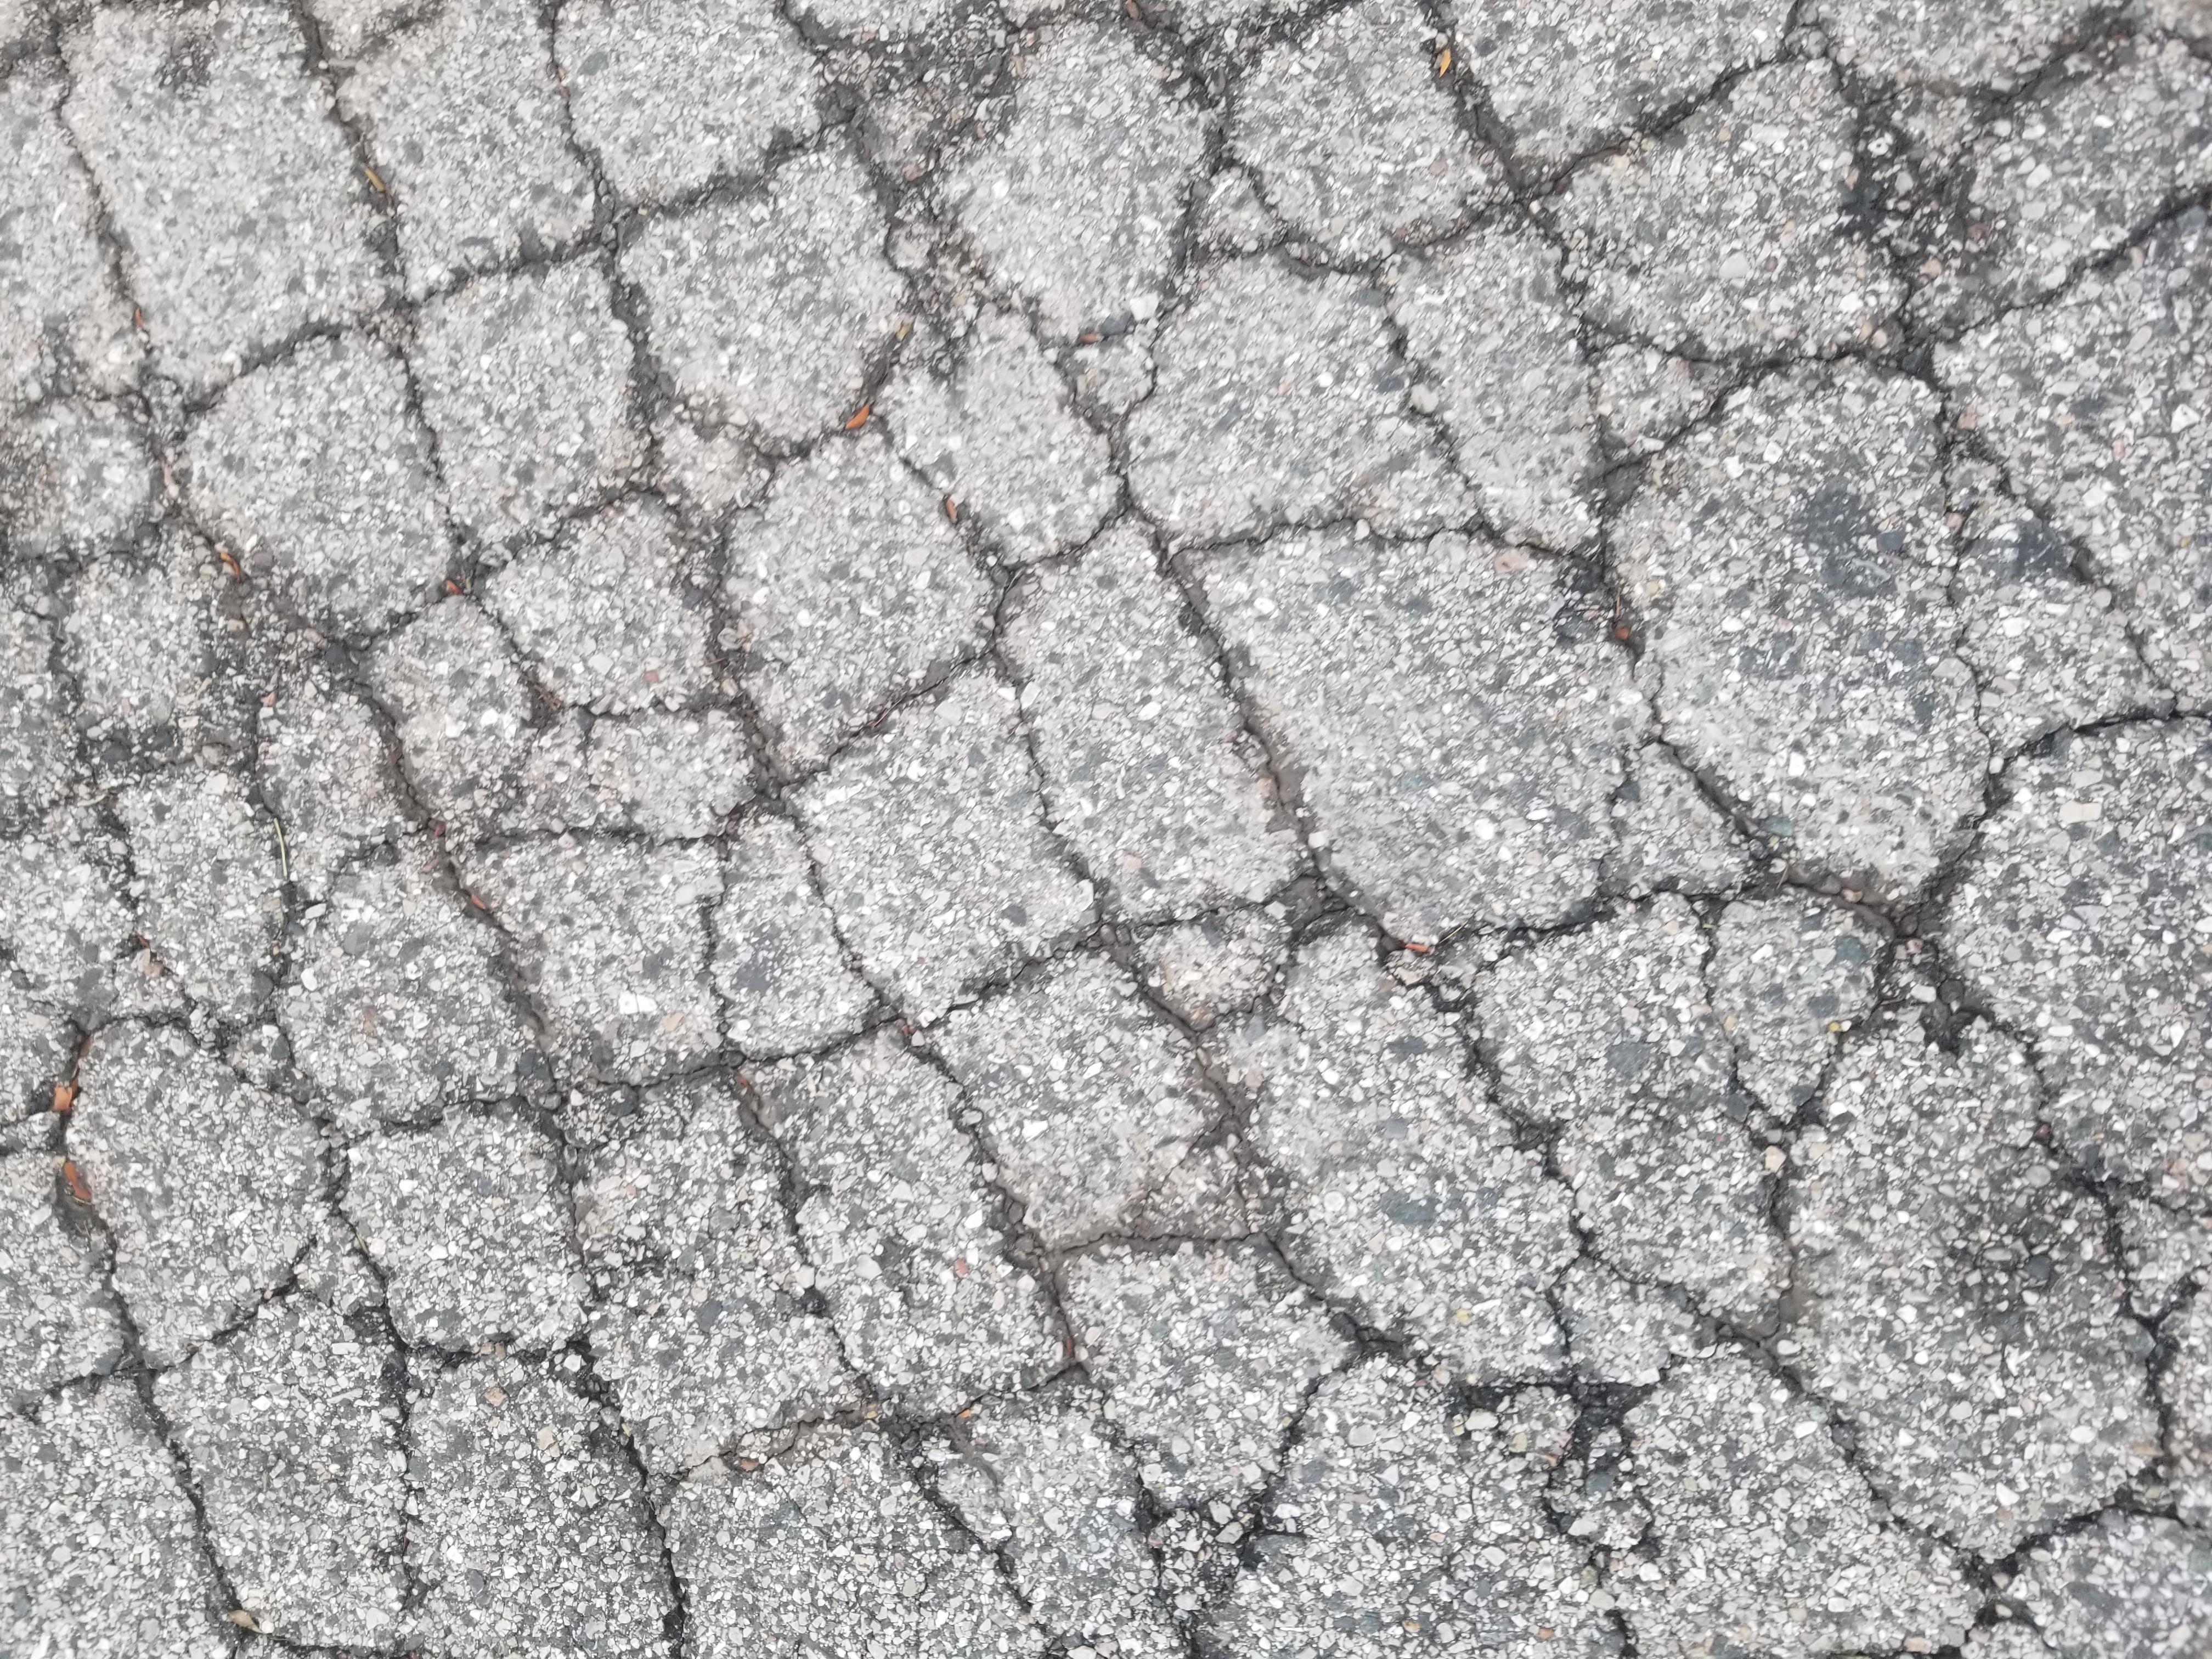alligator-crack: (23, 7, 2212, 1659)
